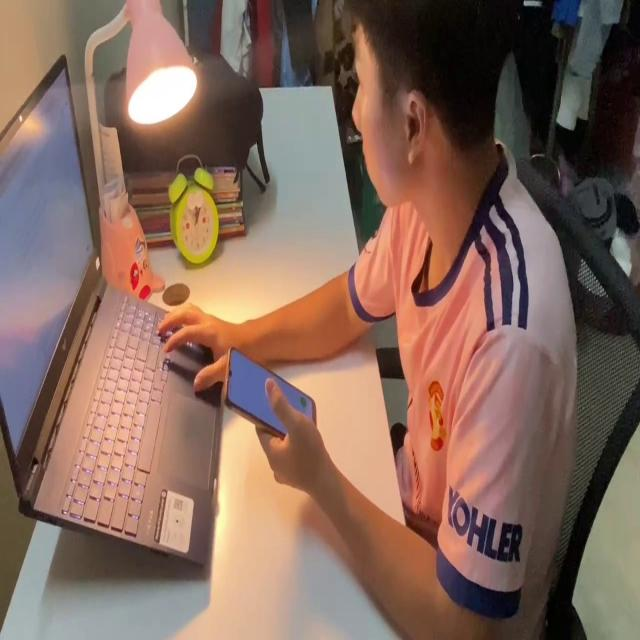laptop: (1, 42, 225, 580)
phone: (222, 339, 318, 448)
student: (158, 0, 578, 640)
